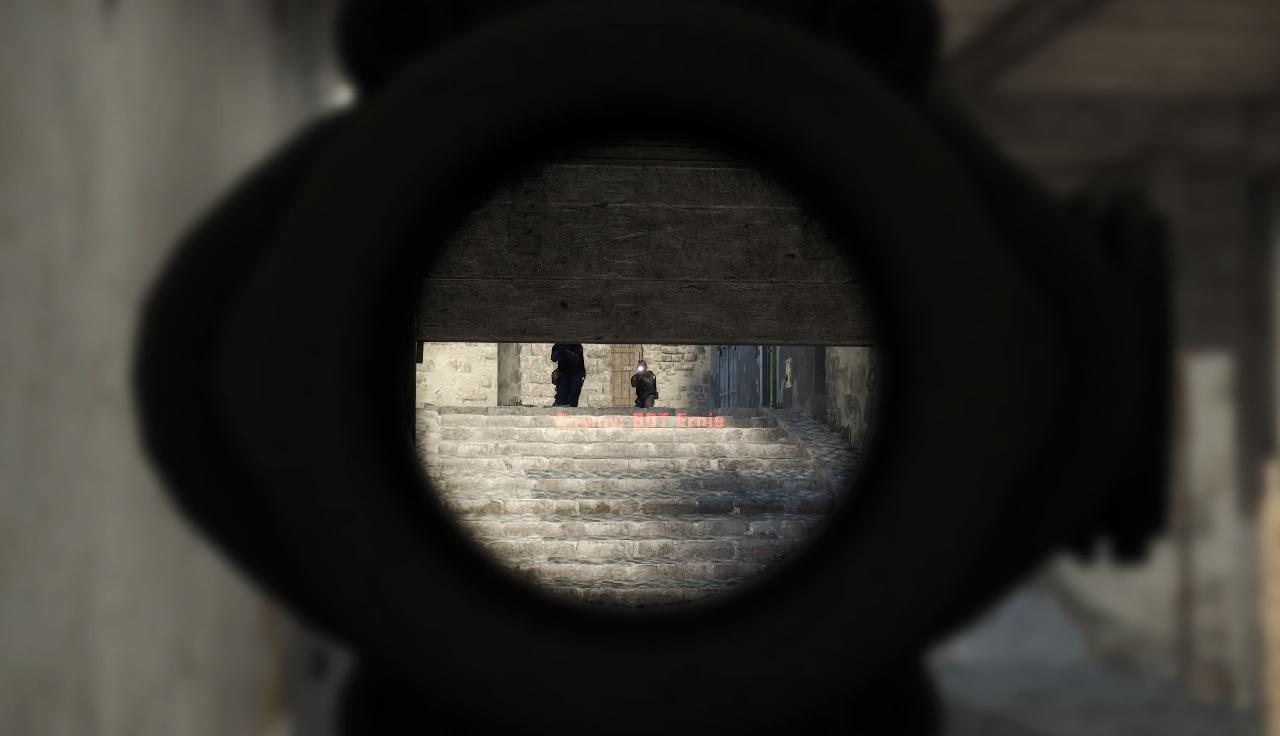ct: (553, 342, 585, 406), (633, 362, 658, 410)
cthead: (638, 361, 648, 373)
